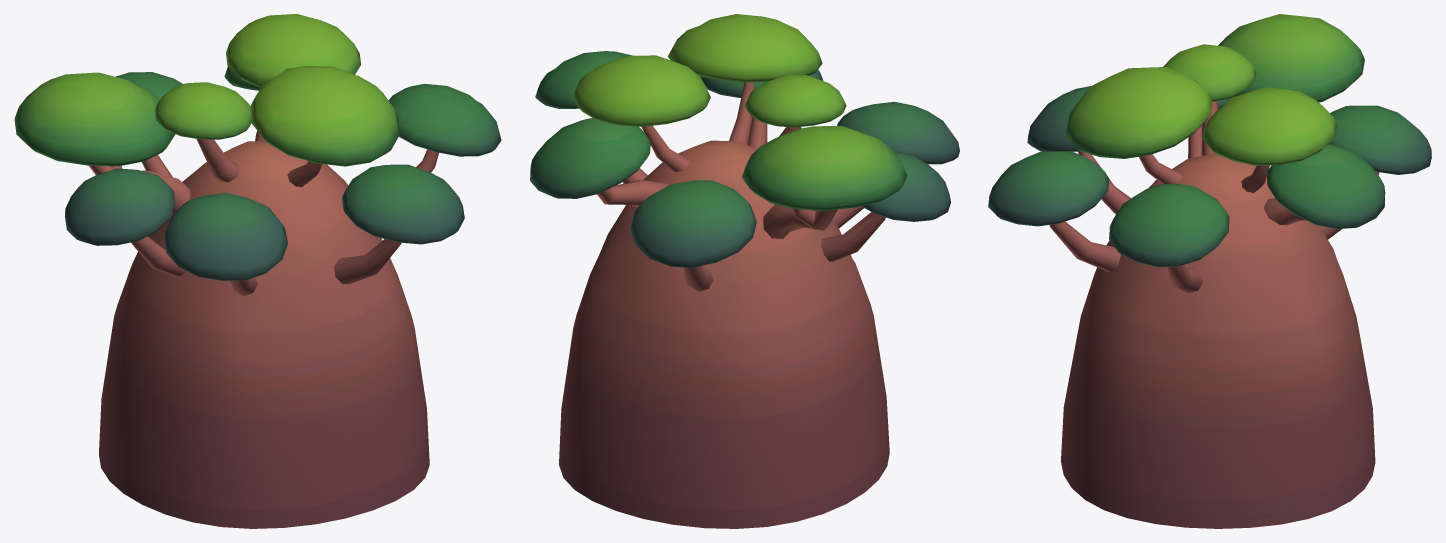
Rendered from Tree_16.fbx.
3 renders of one model, left to right at view 1: azimuth 30°, elevation 25°; view 2: azimuth 150°, elevation 25°; view 3: azimuth 270°, elevation 25°, orthographic. The views are drawn at different scales.
Visible parts, largest first — view 1: Tree_16; view 2: Tree_16; view 3: Tree_16.
Part boxes in pixels (x1,y1,x2,y2): Tree_16: [14, 14, 501, 528]; Tree_16: [530, 14, 959, 528]; Tree_16: [988, 14, 1431, 528].
Size of the model in its own units: 379 by 358 by 365.
